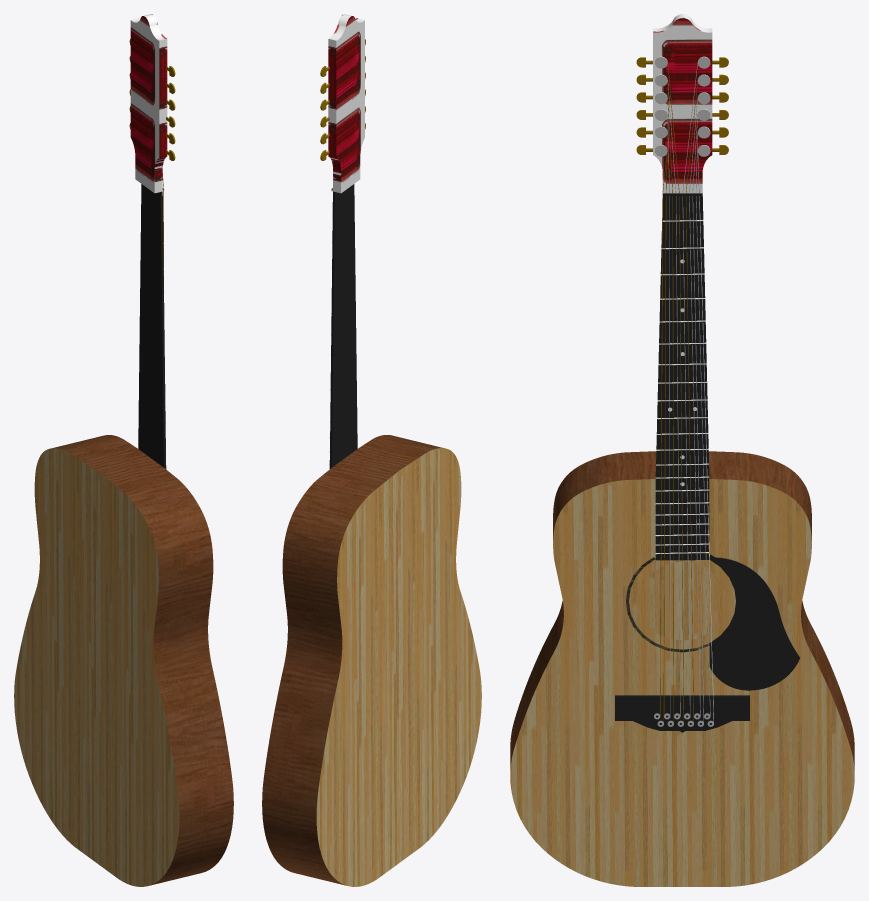
The picture shows the model from 3 angles, left to right: view 1: azimuth 30°, elevation 25°; view 2: azimuth 150°, elevation 25°; view 3: azimuth 270°, elevation 25°; orthographic projection. The views are drawn at different scales.
Visible parts, largest first — view 1: mesh58-geometry-6, mesh58-geometry-5, mesh58-geometry-4, mesh58-geometry-3; view 2: mesh58-geometry-6, mesh58-geometry-5, mesh58-geometry-4, mesh58-geometry-3; view 3: mesh58-geometry-6, mesh58-geometry-4, mesh58-geometry-5, mesh58-geometry-3, mesh58-geometry-2, mesh58-geometry-0, mesh64-geometry-0, mesh65-geometry-0.
Part boxes in pixels (left/top/right/bottom): mesh58-geometry-6: left=14, top=448, right=179, bottom=886; mesh58-geometry-5: left=52, top=435, right=233, bottom=885; mesh58-geometry-4: left=138, top=184, right=166, bottom=468; mesh58-geometry-3: left=130, top=14, right=167, bottom=193; mesh58-geometry-6: left=316, top=448, right=481, bottom=886; mesh58-geometry-5: left=262, top=435, right=443, bottom=885; mesh58-geometry-4: left=329, top=184, right=357, bottom=468; mesh58-geometry-3: left=328, top=14, right=364, bottom=193; mesh58-geometry-6: left=510, top=479, right=854, bottom=886; mesh58-geometry-4: left=615, top=193, right=799, bottom=732; mesh58-geometry-5: left=510, top=451, right=854, bottom=769; mesh58-geometry-3: left=653, top=14, right=712, bottom=193; mesh58-geometry-2: left=655, top=57, right=710, bottom=716; mesh58-geometry-0: left=660, top=63, right=697, bottom=722; mesh64-geometry-0: left=660, top=248, right=704, bottom=274; mesh65-geometry-0: left=660, top=274, right=704, bottom=298.
Size of the model in its own units: 0.0686 by 0.939 by 0.3371.
